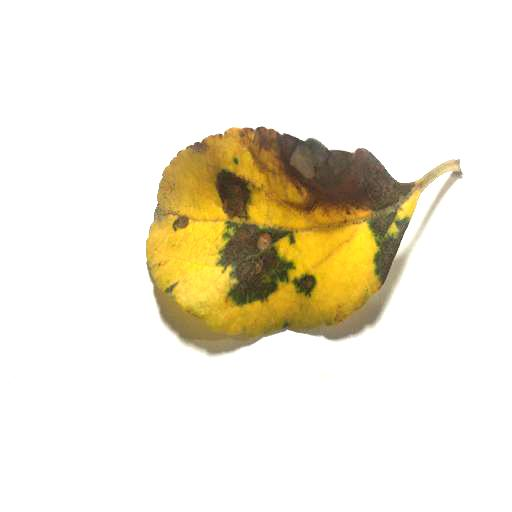Brown_Spot: (273, 145, 404, 201), (219, 225, 278, 292), (213, 180, 251, 207), (173, 218, 196, 238), (294, 276, 316, 294)
